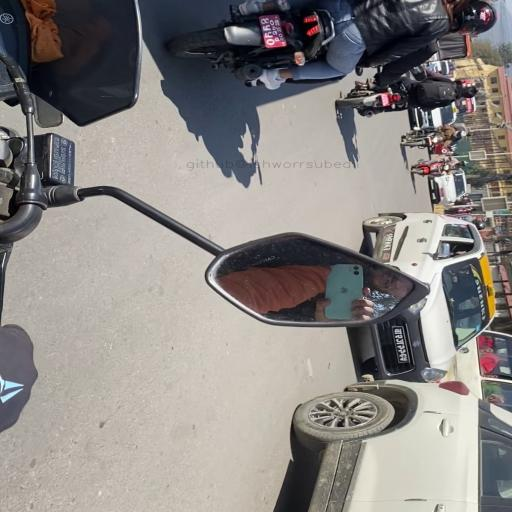license_plate: (257, 13, 290, 49), (391, 326, 413, 365), (380, 92, 393, 107)
